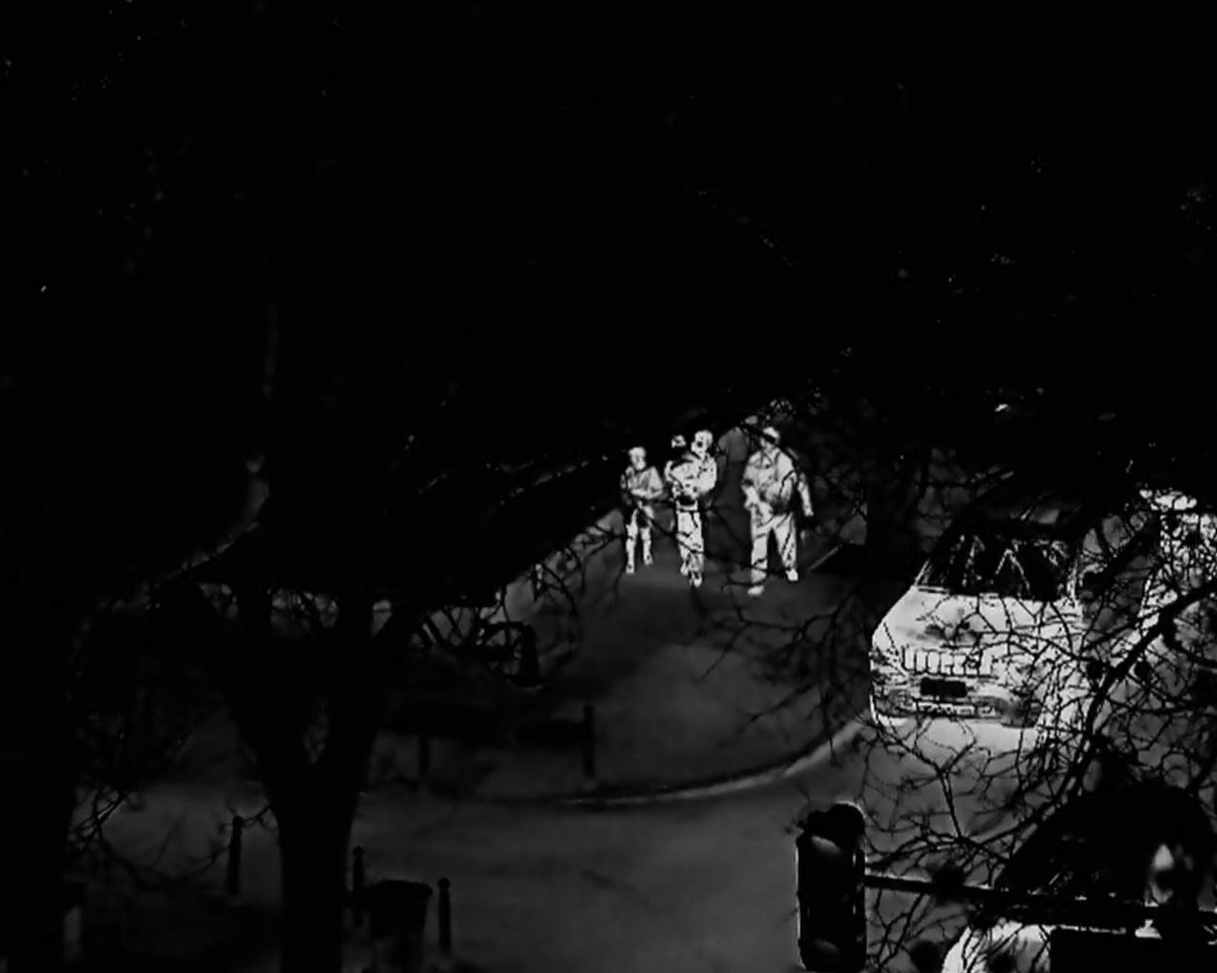person: (741, 426, 817, 597), (665, 435, 718, 589), (616, 445, 664, 577)
